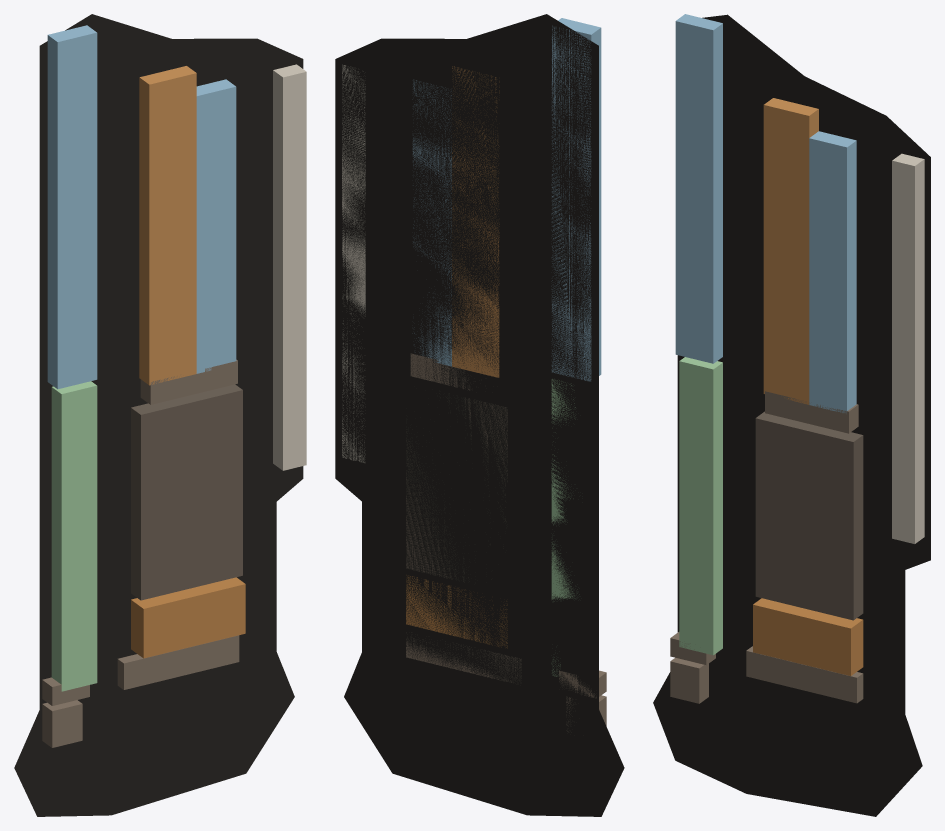
The model's file is ldg-phase2-site-blockout.obj.
The picture shows the model from 3 angles, left to right: view 1: azimuth 30°, elevation 25°; view 2: azimuth 150°, elevation 25°; view 3: azimuth 330°, elevation 25°; orthographic projection. The views are drawn at different scales.
Parts seen in each view (by area): view 1: site_pad, the_gallery, luxe_club, valet, detail_bay, unit_13_signature, lounge, unit_58_deluxe, unit_05_signature, unit_12_signature, unit_06_signature, unit_07_signature (+70 smaller); view 2: site_pad, the_gallery, luxe_club, valet, unit_01_signature, detail_bay, unit_02_signature, unit_58_deluxe, unit_03_signature, unit_46_deluxe, unit_04_signature, unit_45_deluxe (+8 smaller); view 3: site_pad, the_gallery, luxe_club, valet, detail_bay, unit_13_signature, lounge, unit_14_deluxe, unit_58_deluxe, unit_48_deluxe, unit_17_deluxe, unit_22_deluxe (+70 smaller).
Boxes of the visible parts, x1,y1,x2,y2 form: site_pad: [14, 14, 303, 816]; the_gallery: [131, 384, 242, 600]; luxe_club: [131, 577, 245, 658]; valet: [117, 635, 239, 689]; detail_bay: [140, 359, 237, 404]; unit_13_signature: [139, 66, 196, 107]; lounge: [42, 700, 82, 747]; unit_58_deluxe: [47, 25, 97, 65]; unit_05_signature: [139, 258, 196, 292]; unit_12_signature: [139, 96, 196, 130]; unit_06_signature: [139, 235, 196, 269]; unit_07_signature: [139, 212, 196, 246]; site_pad: [335, 14, 624, 816]; the_gallery: [406, 393, 507, 582]; luxe_club: [406, 575, 507, 648]; valet: [406, 632, 521, 682]; unit_01_signature: [452, 344, 499, 377]; detail_bay: [410, 353, 475, 390]; unit_02_signature: [452, 321, 499, 354]; unit_58_deluxe: [552, 18, 601, 56]; unit_03_signature: [452, 298, 499, 331]; unit_46_deluxe: [552, 303, 601, 335]; unit_04_signature: [452, 274, 499, 308]; unit_45_deluxe: [551, 326, 601, 358]; site_pad: [653, 14, 930, 816]; the_gallery: [755, 411, 863, 620]; luxe_club: [753, 598, 863, 675]; valet: [746, 646, 863, 703]; detail_bay: [765, 391, 858, 433]; unit_13_signature: [763, 98, 818, 137]; lounge: [670, 657, 708, 703]; unit_14_deluxe: [809, 131, 856, 169]; unit_58_deluxe: [675, 14, 722, 52]; unit_48_deluxe: [675, 243, 722, 274]; unit_17_deluxe: [809, 205, 856, 236]; unit_22_deluxe: [809, 316, 856, 347].
Bounding box in the file's own units: 366 × 975 × 28.
